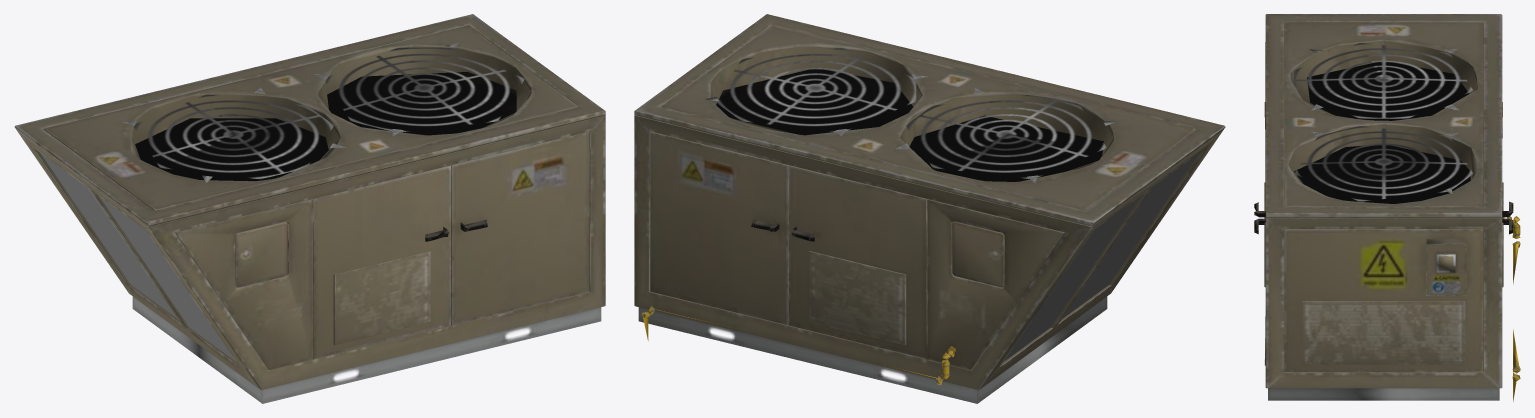
File: hvac-unit.lod0.glb
3 renders of one model, left to right at view 1: azimuth 30°, elevation 25°; view 2: azimuth 150°, elevation 25°; view 3: azimuth 270°, elevation 25°, orthographic. The views are drawn at different scales.
Parts seen in each view (by area): view 1: polymsh16_material39_0, Object_6; view 2: polymsh16_material39_0, Object_6; view 3: polymsh16_material39_0.
Boxes of the visible parts, <box> form: polymsh16_material39_0: <box>14,14,605,403</box>; Object_6: <box>40,153,235,361</box>; polymsh16_material39_0: <box>634,14,1225,403</box>; Object_6: <box>1004,153,1199,361</box>; polymsh16_material39_0: <box>1254,14,1520,401</box>.
Size of the model in its own units: 2.59 by 1.18 by 1.42.
2 materials, 1 textured.
